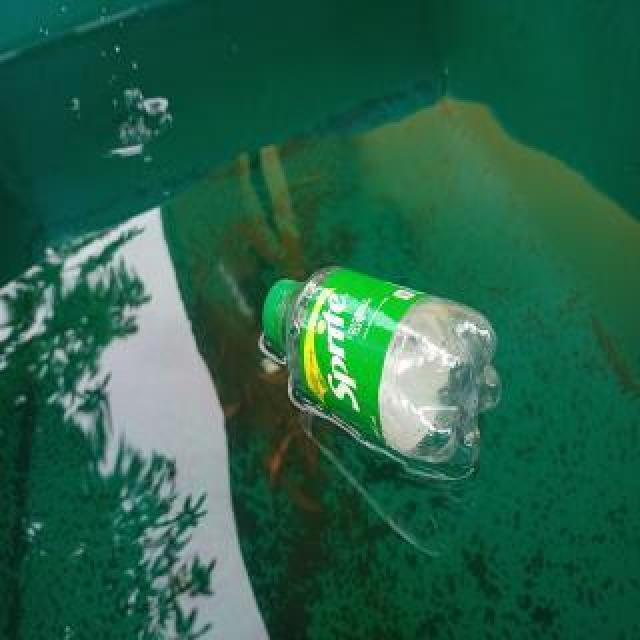bottle: (255, 219, 574, 474)
